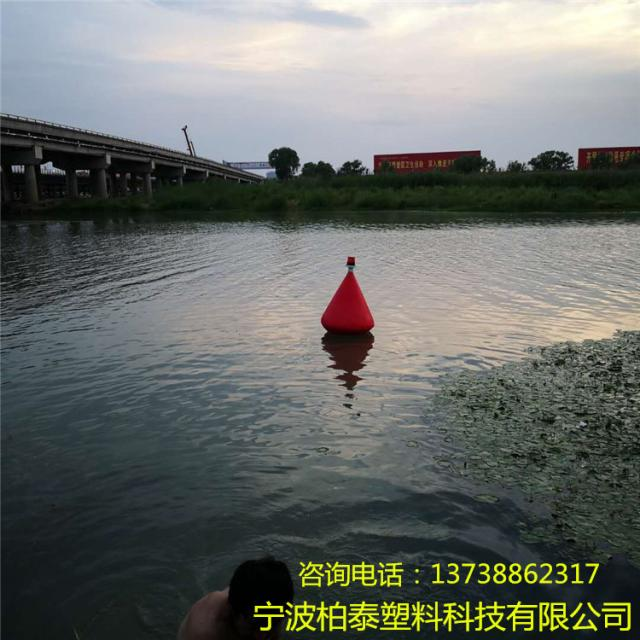buoy: (316, 256, 382, 335)
